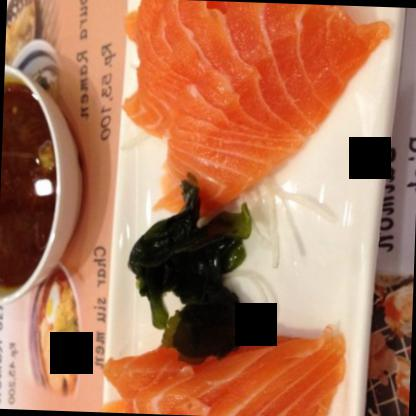salmon: (116, 0, 385, 229), (105, 333, 351, 415)
